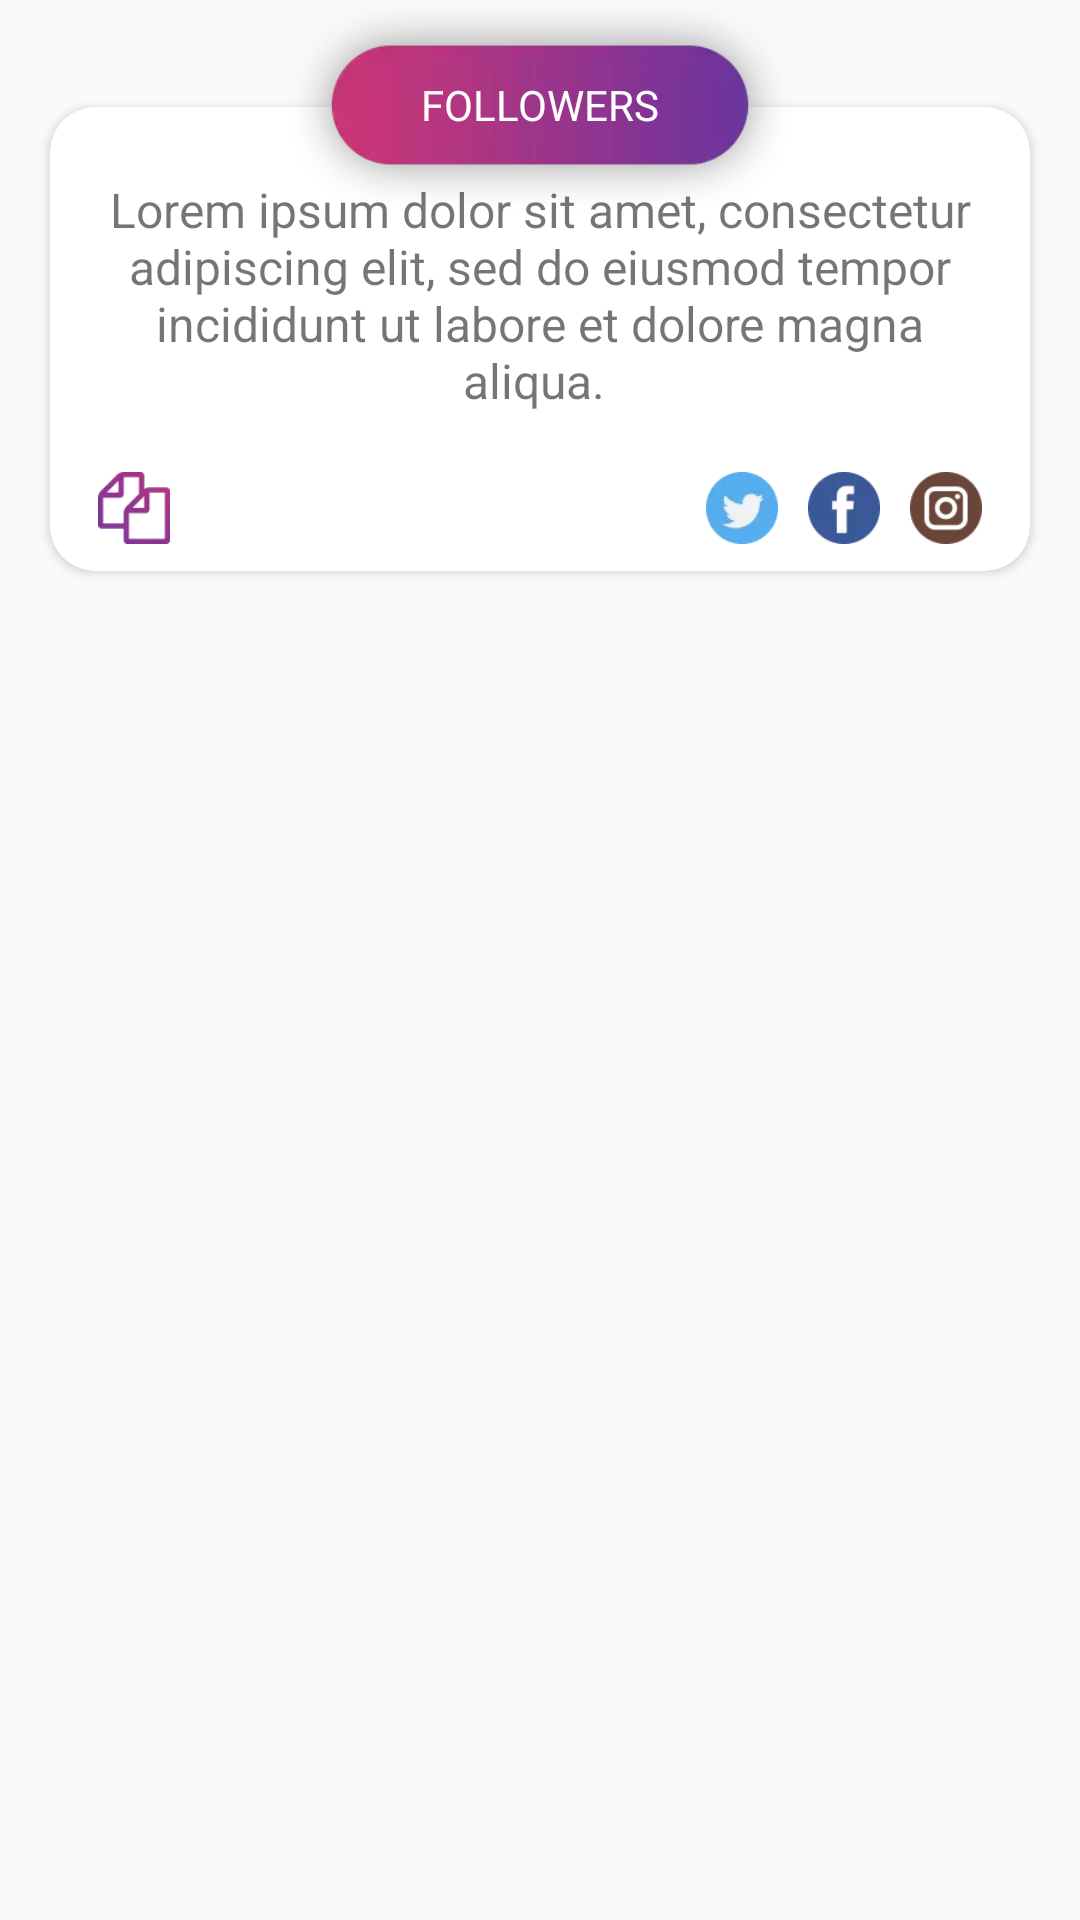

Point at icon controls on the screen. Image size 1080x1920, points as point (x, y).
pagesicon: point (134, 508)
